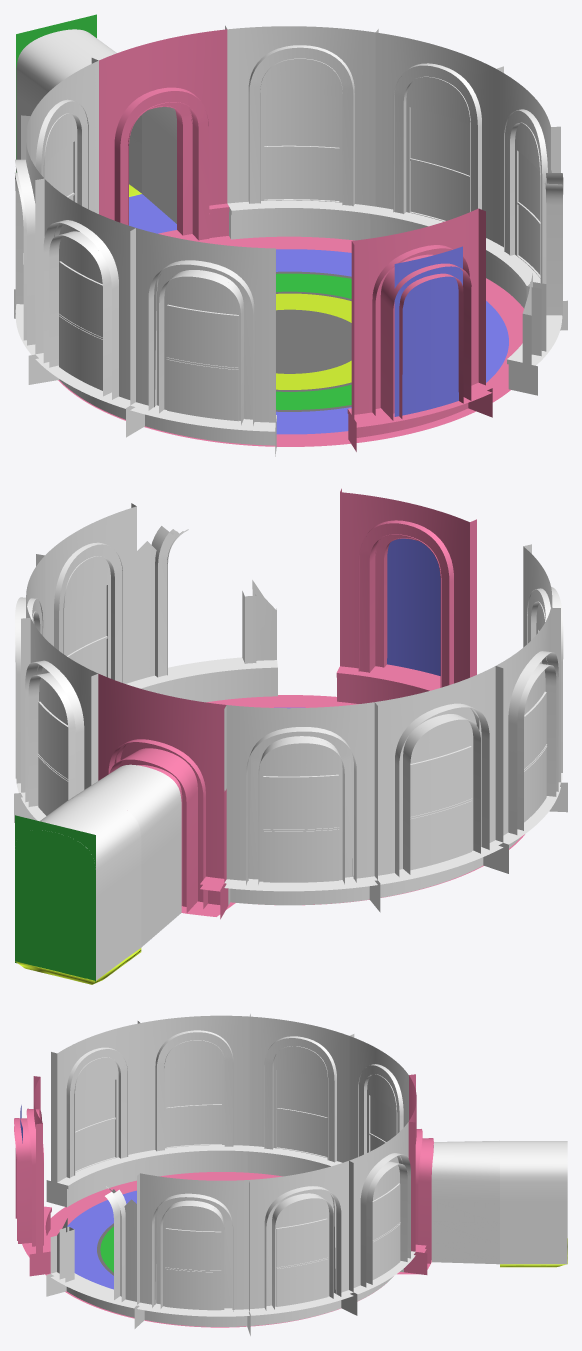
3 views of the same model, one above another, from view 1: azimuth 30°, elevation 25°; view 2: azimuth 150°, elevation 25°; view 3: azimuth 270°, elevation 25° (orthographic). The views are drawn at different scales.
Visible parts, largest first — view 1: Object023, Object022, Object024, Object010; view 2: Object023, Object022, Object024, Object010; view 3: Object023, Object022, Object010, Object024.
Boxes of the visible parts, left/top/right/bottom form: Object023: left=14, top=25, right=567, bottom=456; Object022: left=16, top=14, right=229, bottom=240; Object024: left=347, top=208, right=492, bottom=451; Object010: left=58, top=236, right=523, bottom=446; Object023: left=14, top=503, right=567, bottom=912; Object022: left=15, top=673, right=228, bottom=984; Object024: left=336, top=488, right=476, bottom=703; Object010: left=206, top=695, right=524, bottom=905; Object023: left=46, top=1014, right=415, bottom=1335; Object022: left=404, top=1074, right=567, bottom=1274; Object010: left=45, top=1172, right=393, bottom=1327; Object024: left=14, top=1076, right=51, bottom=1276.
Size of the model in its own units: 111 by 45.98 by 149.
